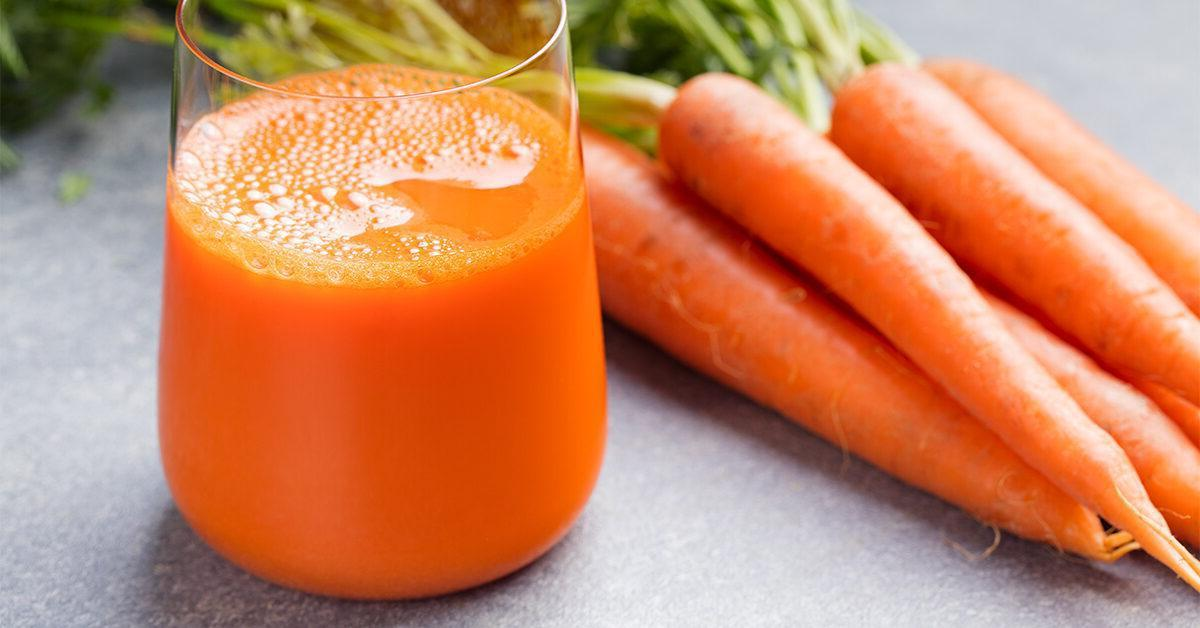carrot: (589, 125, 1200, 558), (676, 49, 1198, 529)
